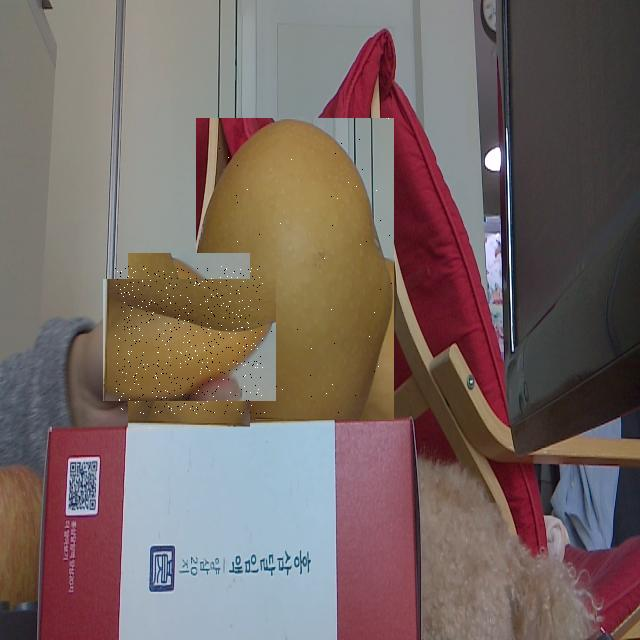pear: (196, 118, 394, 420), (115, 266, 263, 414)
